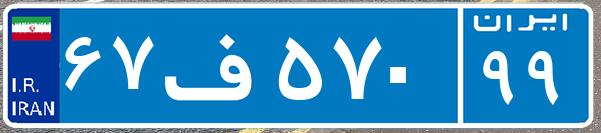0: (385, 28, 445, 110)
5: (273, 28, 330, 110)
6: (57, 26, 110, 107)
7: (330, 28, 385, 110), (110, 28, 158, 105)
9: (475, 38, 525, 113), (525, 38, 570, 115)
ف: (158, 15, 273, 115)
